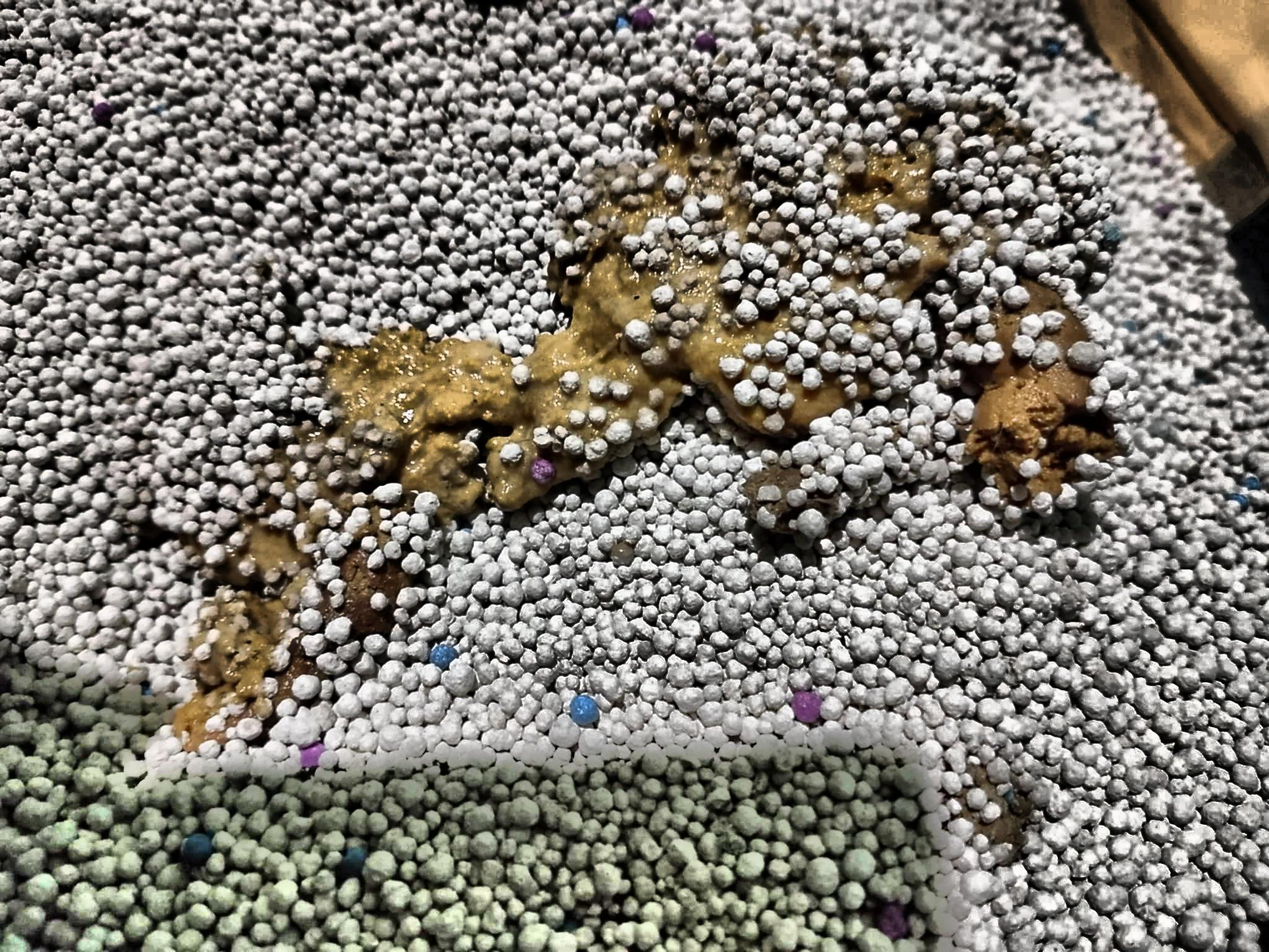poop: (175, 33, 1120, 748)
